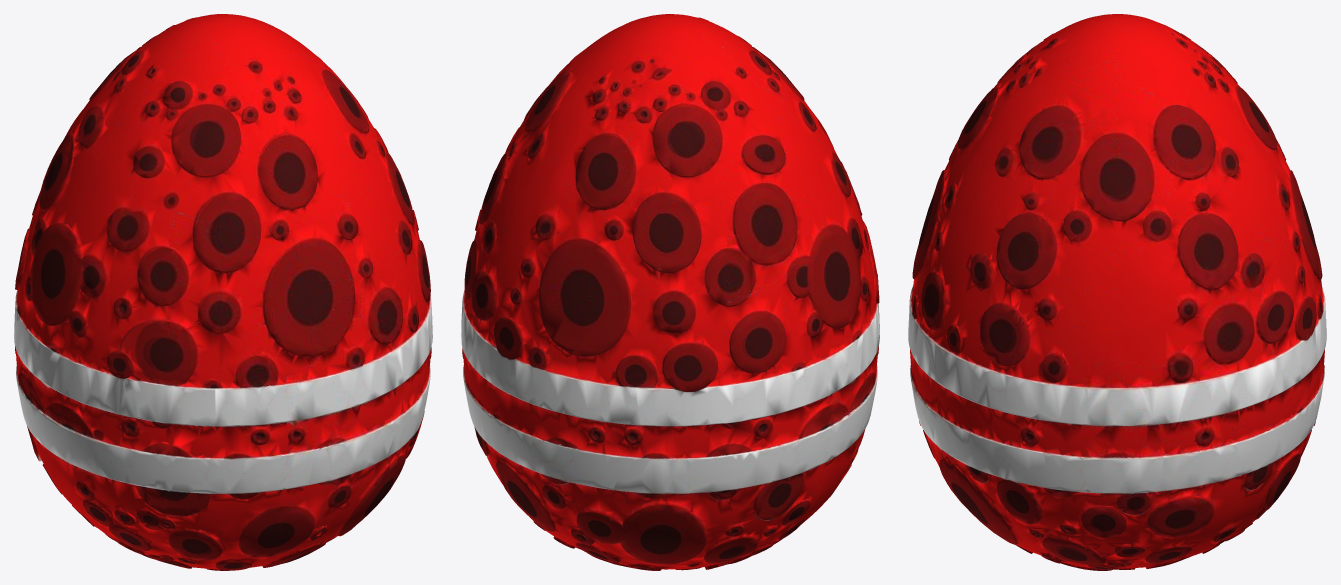
Rendered from Metro-Egg.glb.
The picture shows the model from 3 angles, left to right: view 1: azimuth 30°, elevation 25°; view 2: azimuth 150°, elevation 25°; view 3: azimuth 270°, elevation 25°; orthographic projection.
Size of the model in its own units: 0.1098 by 0.1524 by 0.1097.
Materials: 1 (1 with a texture image).
